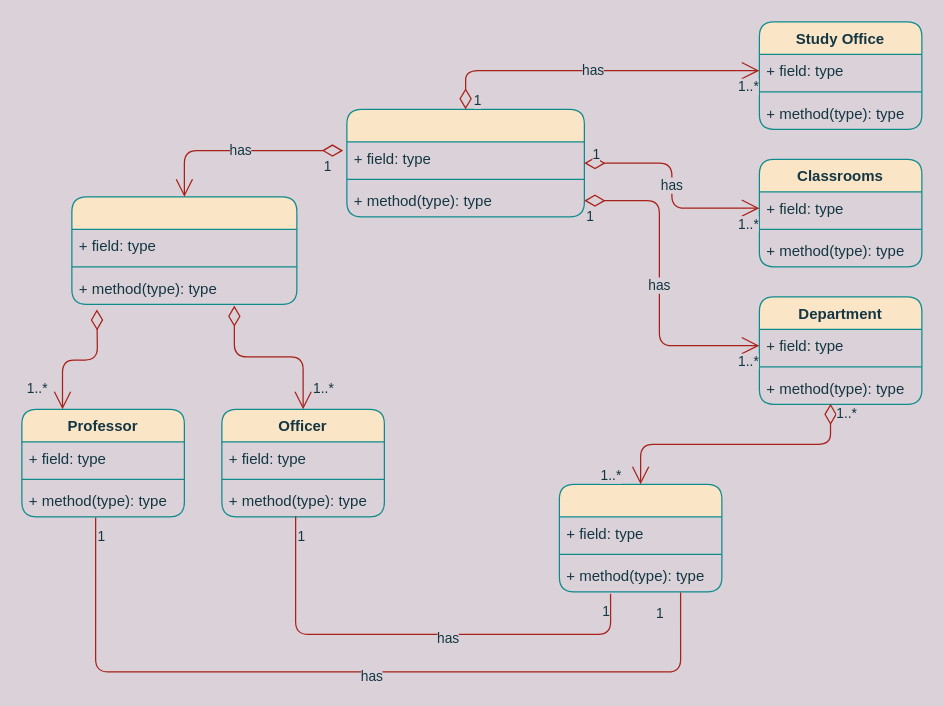
Some shapes in this 944 by 706 pixel diagram are drawn without their labels. Each missing label, with the box of its shape:
Office: (558, 483, 722, 592)
Staffs: (71, 196, 297, 304)
University: (346, 108, 584, 217)
